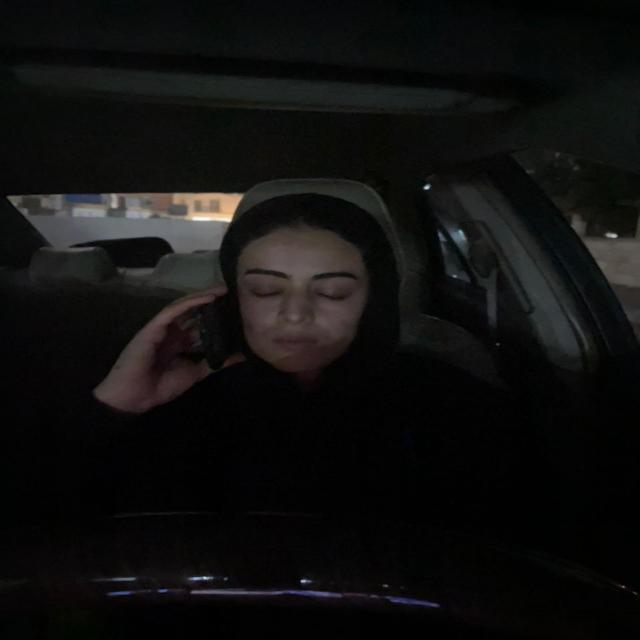mobile: (192, 290, 248, 384)
person: (235, 211, 389, 382)
